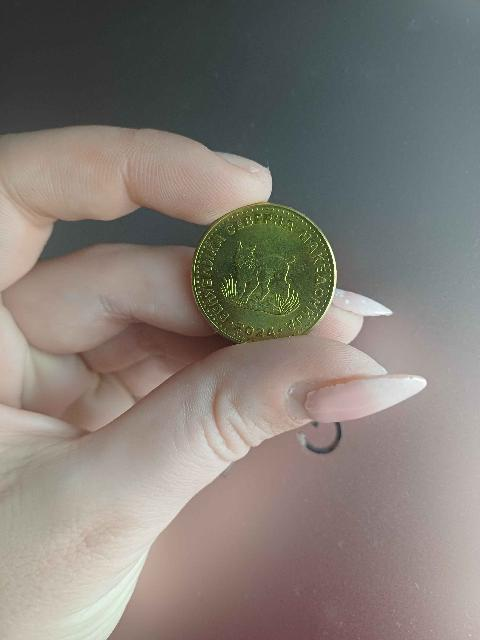coin: (193, 203, 336, 342)
